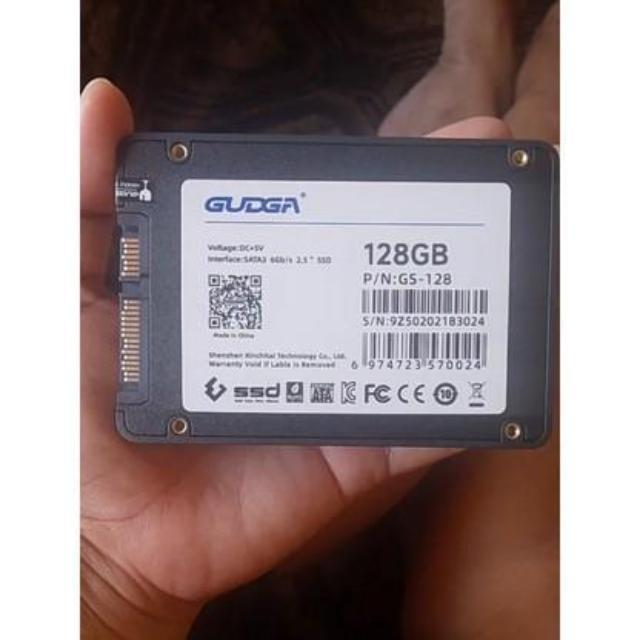DISK: (100, 128, 566, 462)
